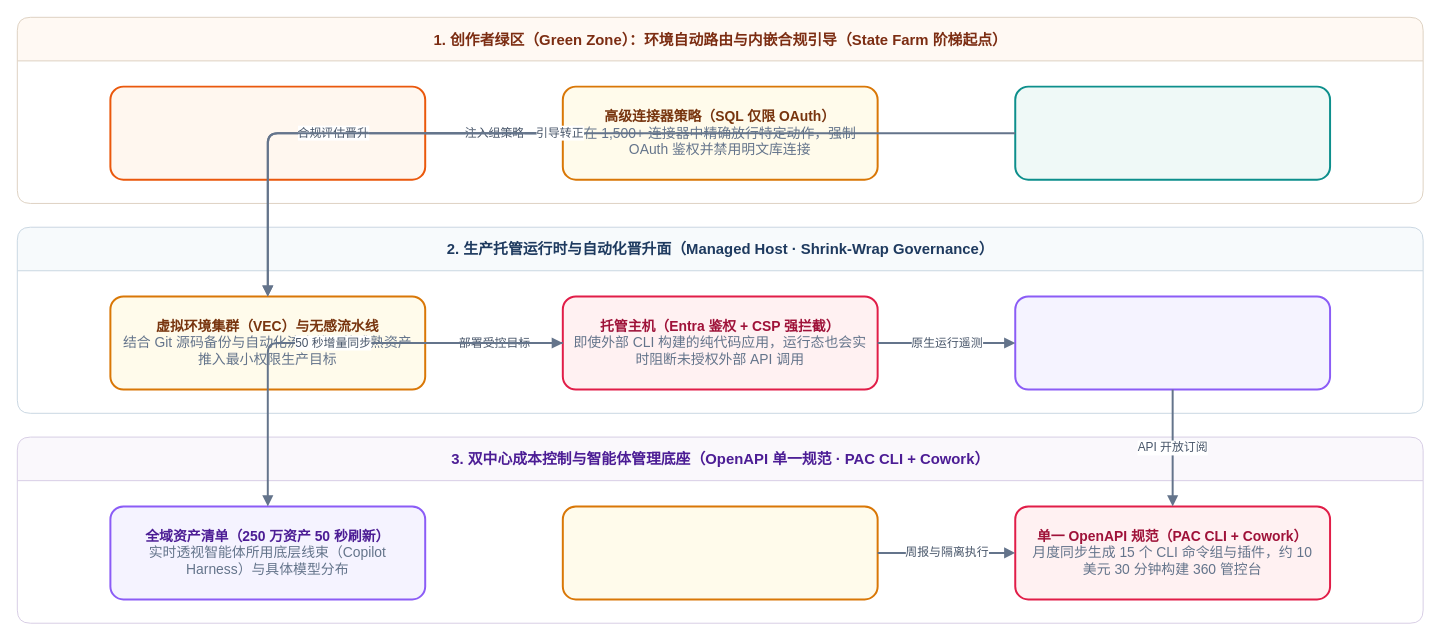
Image size: 1440x641. Some labels were removed from this diagram. Here are the shapes that lost their labels. From the top down, the centre of each, then its label:
At pixel 267 132: "环境自动路由与环境组（~50 规则） 告别拥挤默认环境，按需派生个人开发孤岛并归入环境组统一纳管".
At pixel 1172 132: "欢迎词确认与状态栏智能体向导 首登必读合规条款，被策略拦截时直接在状态栏唤起 IT 异常申请智能体".
At pixel 1172 342: "Purview 审计与 1 小时级健康告警 原生采集运行遥测，支持小时级异常退化订阅并直推 Teams 或 ServiceNow".
At pixel 719 552: "PPAC 坐席许可 + MAC 四级点数治理 区分固定月费基础用度与按量计费点数，工作台左上角实时回显消耗".
